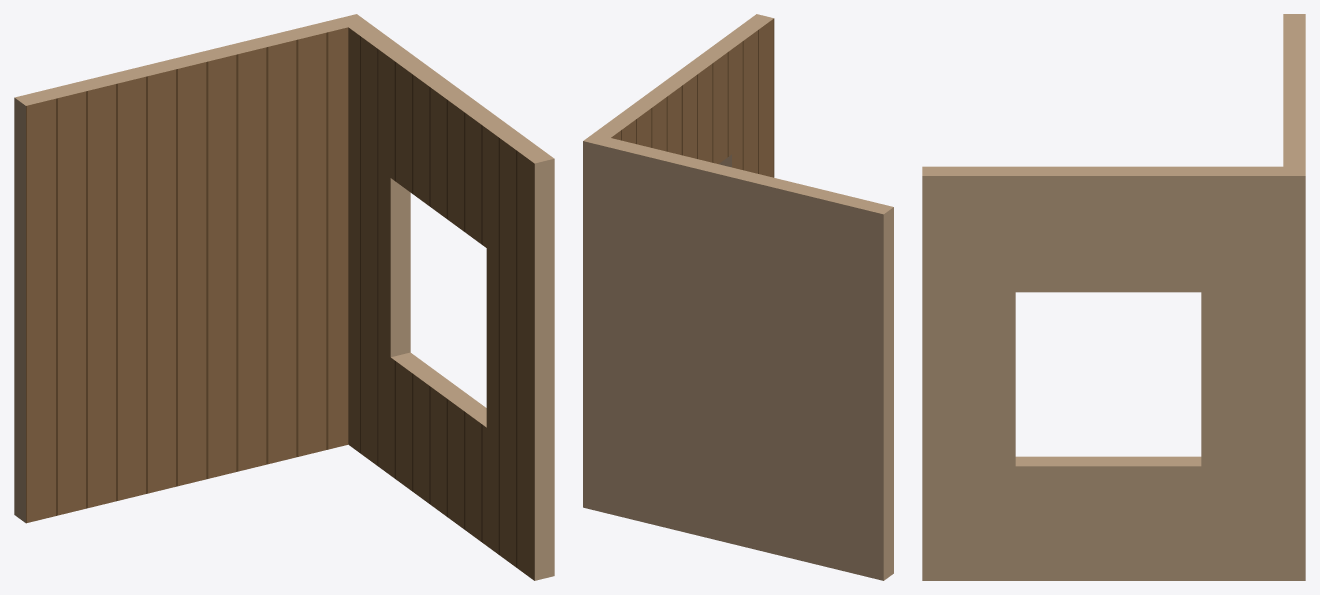
File: Wall2_C9_11.fbx
3 views of the same model, side by side, from view 1: azimuth 30°, elevation 25°; view 2: azimuth 150°, elevation 25°; view 3: azimuth 270°, elevation 25° (orthographic). The views are drawn at different scales.
Visible parts, largest first — view 1: Wall2_C9_11; view 2: Wall2_C9_11; view 3: Wall2_C9_11.
Part boxes in pixels (left/top/right/bottom): Wall2_C9_11: left=14, top=14, right=554, bottom=580; Wall2_C9_11: left=583, top=14, right=893, bottom=580; Wall2_C9_11: left=922, top=14, right=1305, bottom=580.
Size of the model in its own units: 258 by 300 by 258.
